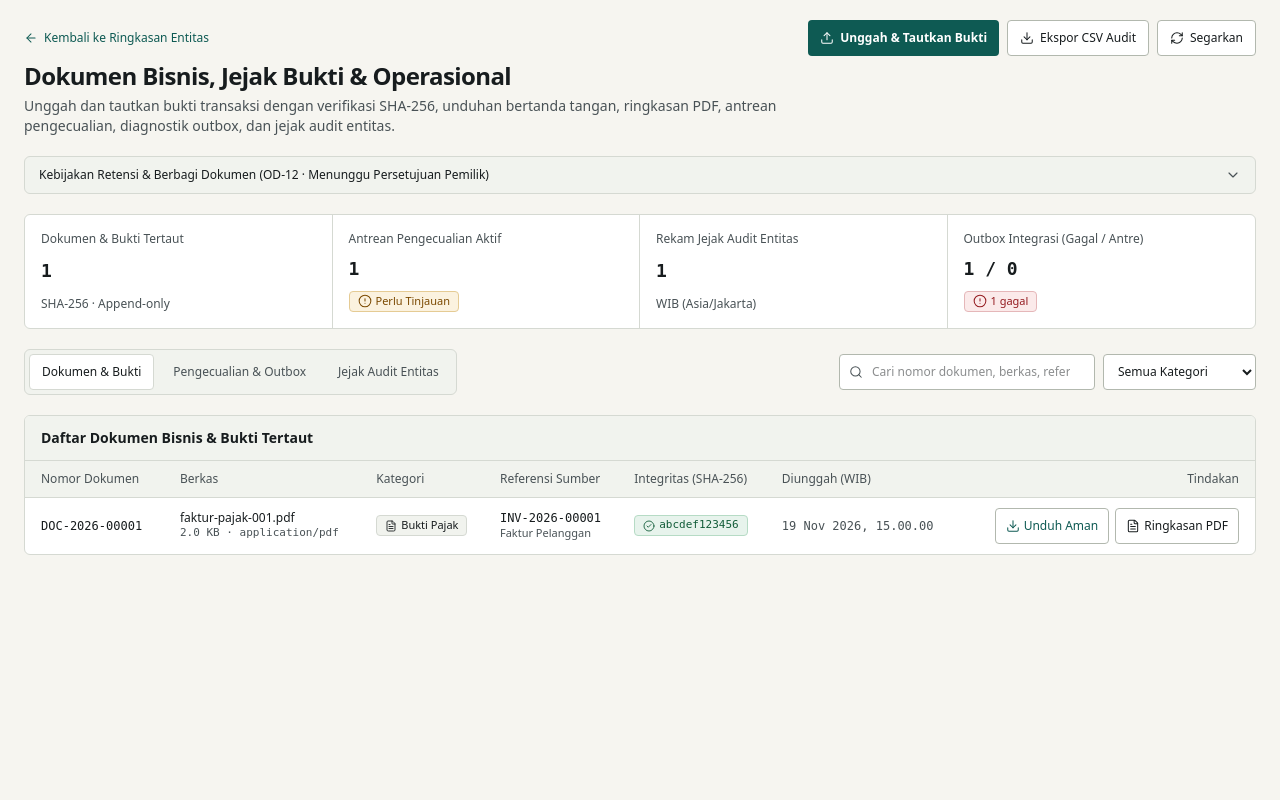
Test: S17 DocumentsAndEvidencePage › renders linked documents, exceptions, outbox retry, and audit trail
This screenshot has width=1280, height=800.
Expected: the text "DOC-2026-00001" is shown, [41,519,142,533]
Expected: the text "faktur-pajak-001.pdf" is shown, [180,509,295,526]
Note: Switch to Exceptions & Outbox tab and click Retry
Click the tab "Pengecualian & Outbox" at (240,372), box [160,354,319,390]
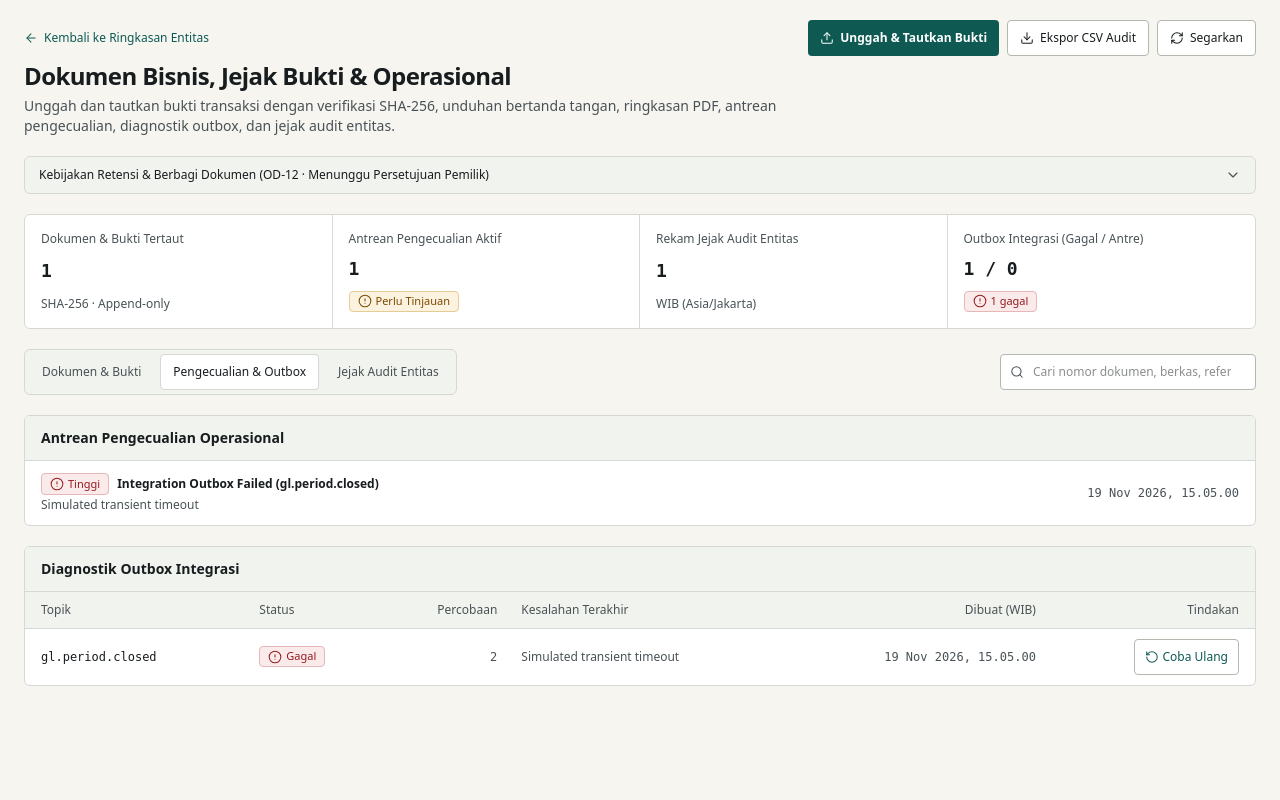
Now the text "gl.period.closed" is shown, box [41,650,157,664]
Click the button "Coba Ulang" at (1186,657), box [1134,639,1239,675]
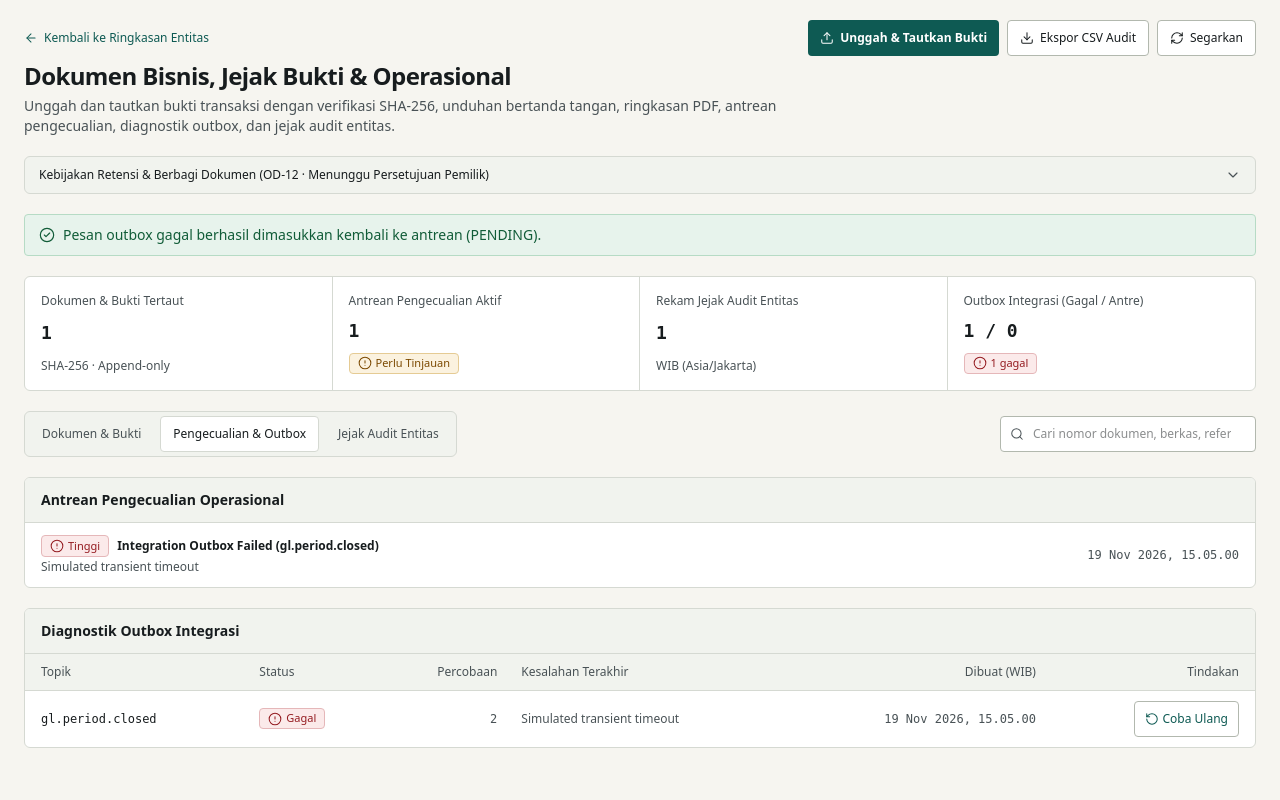
Note: Switch to Audit tab
Click the tab "Jejak Audit Entitas" at (388,434), box [325,416,452,452]
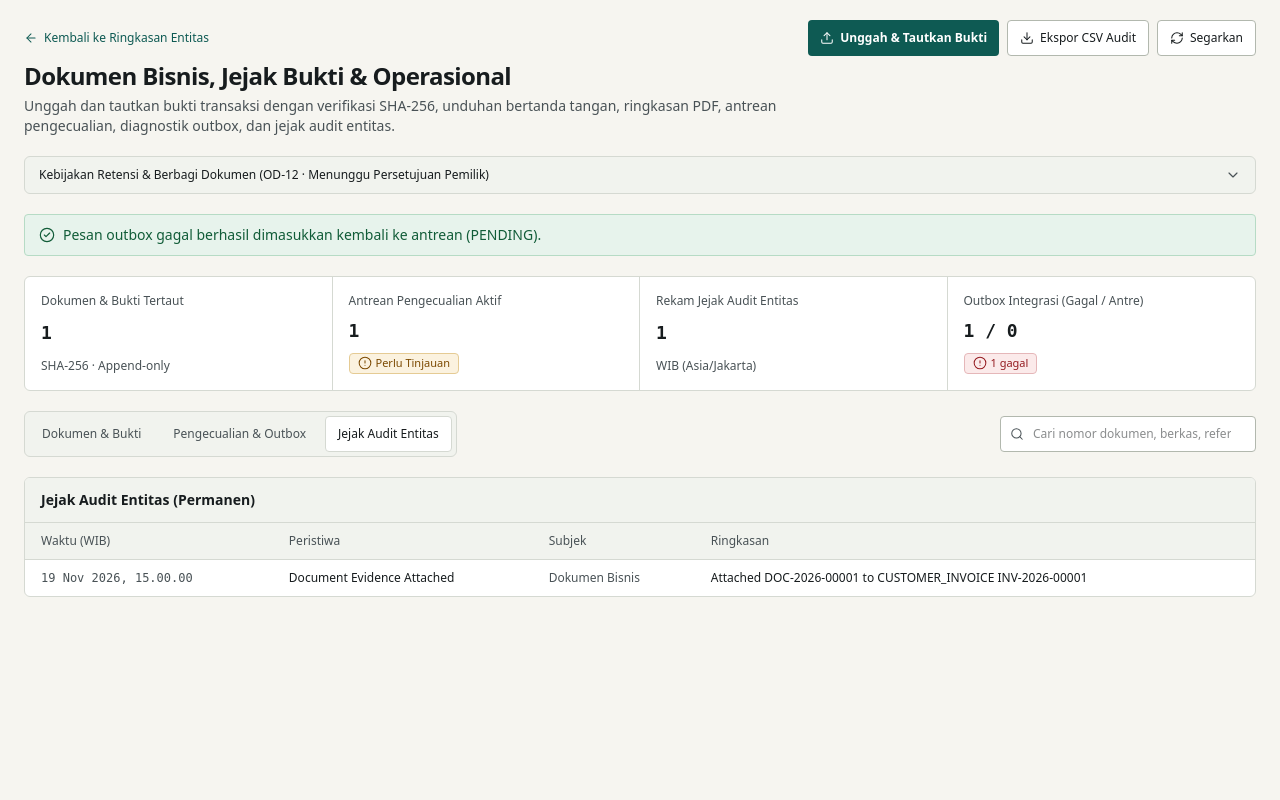
Now the text "Attached DOC-2026-00001 to CUSTOMER_INVOICE INV-2026-00001" is shown, box [711,569,1087,586]
